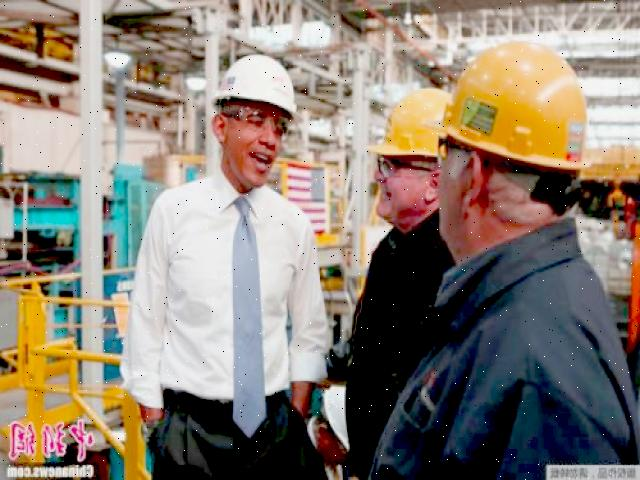Helmet: (444, 33, 598, 171), (362, 82, 454, 167), (208, 49, 302, 121)
